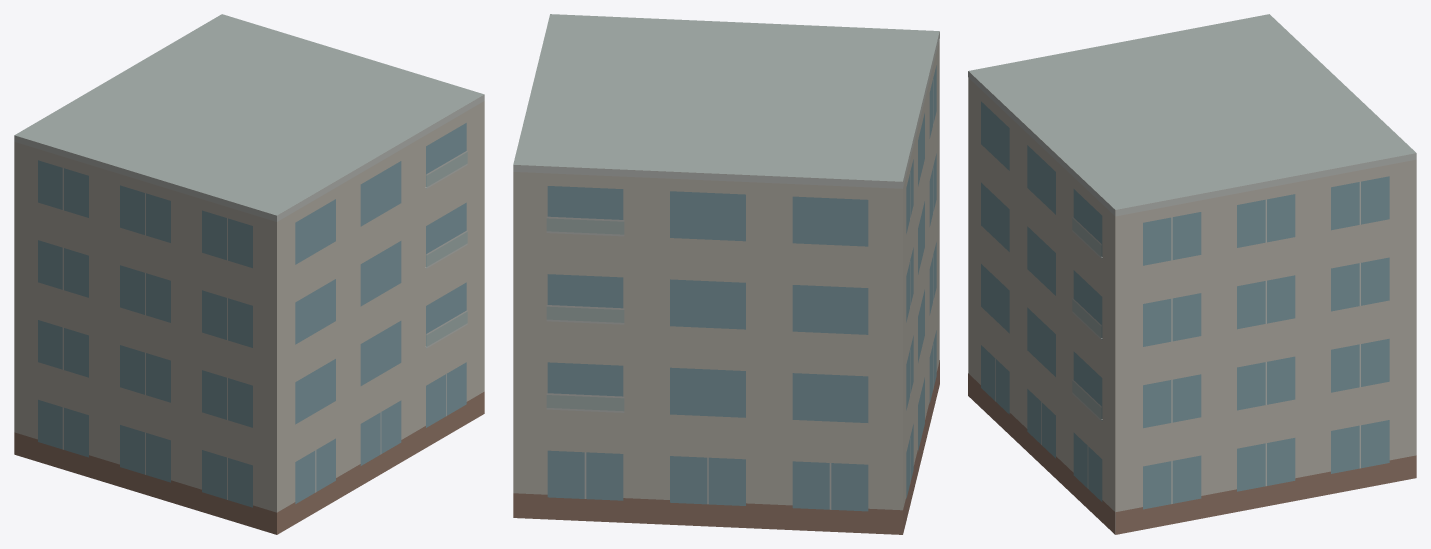
File: residential-b421d661-6208-4877-8ea1-1cee2d01f555.glb
3 views of the same model, side by side, from view 1: azimuth 30°, elevation 25°; view 2: azimuth 150°, elevation 25°; view 3: azimuth 270°, elevation 25° (orthographic). The views are drawn at different scales.
Visible parts, largest first — view 1: residential-b421d661-6208-4877-8ea1-1cee2d01f555.tmp; view 2: residential-b421d661-6208-4877-8ea1-1cee2d01f555.tmp; view 3: residential-b421d661-6208-4877-8ea1-1cee2d01f555.tmp.
Boxes of the visible parts, bbox=[...] form: residential-b421d661-6208-4877-8ea1-1cee2d01f555.tmp: bbox=[14, 14, 484, 534]; residential-b421d661-6208-4877-8ea1-1cee2d01f555.tmp: bbox=[513, 14, 939, 534]; residential-b421d661-6208-4877-8ea1-1cee2d01f555.tmp: bbox=[968, 14, 1416, 534].
Size of the model in its own units: 15.79 by 12.2 by 15.27.
